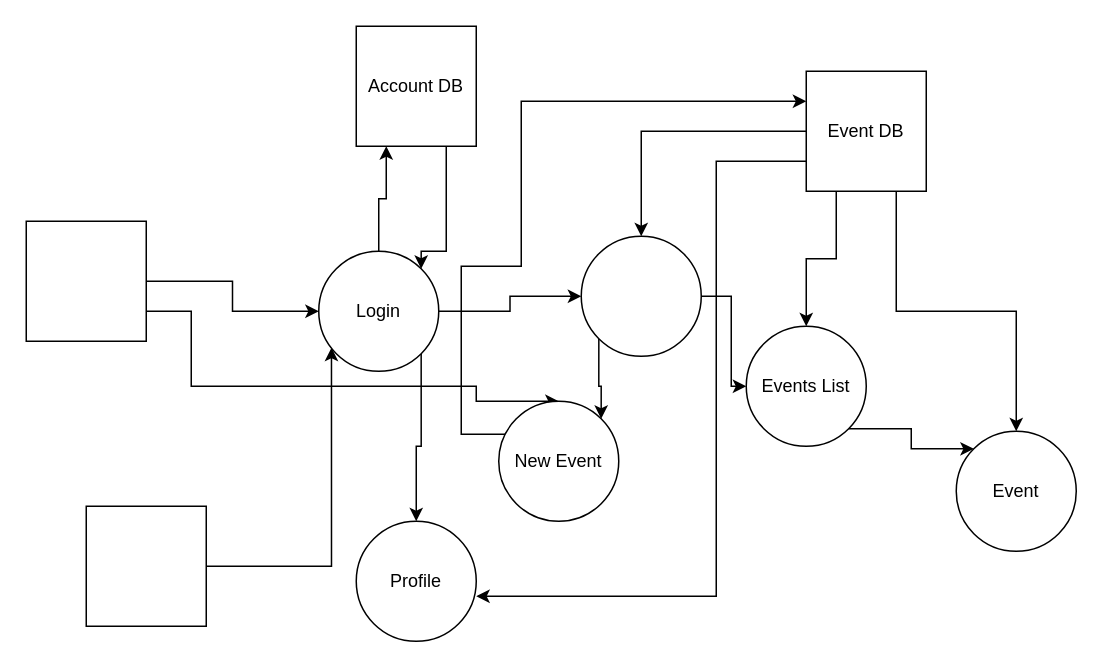
Image size: 1103x668. Some labels were removed from this diagram. Here are the shapes that lost their labels. From the top down, the centre of each, then its label:
the point at 85,280: Host
the point at 640,295: Home Page
the point at 145,565: Attendee
